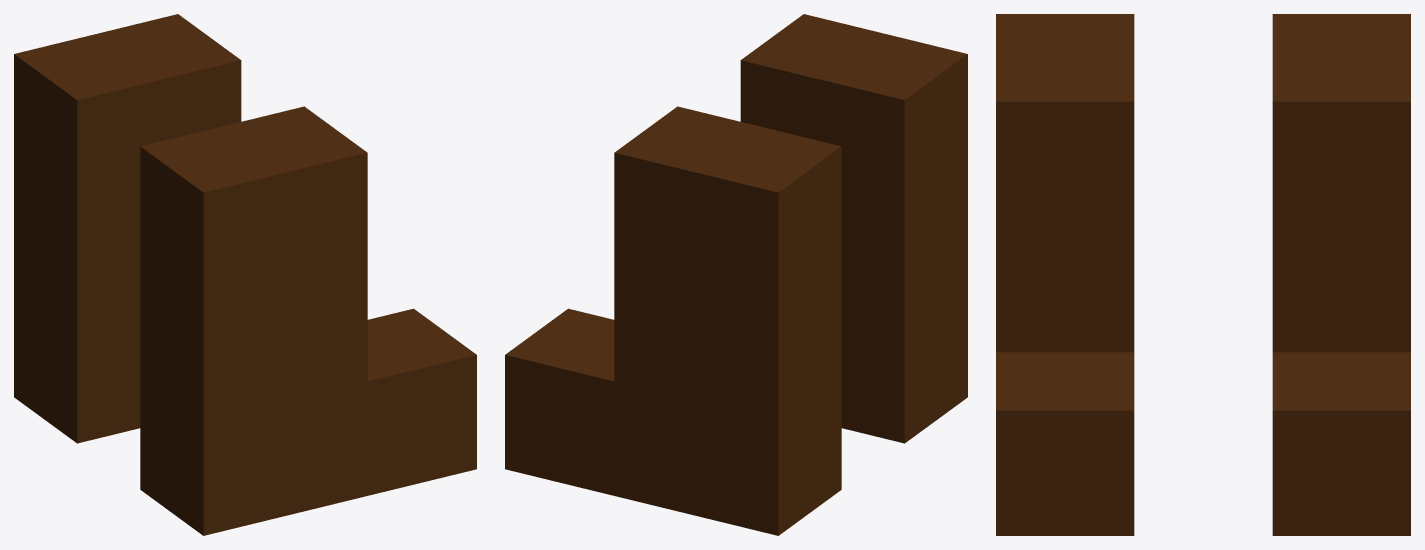
Rendered from Robot model legs test.fbx.
The picture shows the model from 3 angles, left to right: view 1: azimuth 30°, elevation 25°; view 2: azimuth 150°, elevation 25°; view 3: azimuth 270°, elevation 25°; orthographic projection. The views are drawn at different scales.
Parts seen in each view (by area): view 1: Legs.001; view 2: Legs.001; view 3: Legs.001.
Part boxes in pixels (left/top/right/bottom): Legs.001: left=14, top=14, right=476, bottom=535; Legs.001: left=505, top=14, right=967, bottom=535; Legs.001: left=996, top=14, right=1410, bottom=535.
Size of the model in its own units: 5 by 6 by 6.
